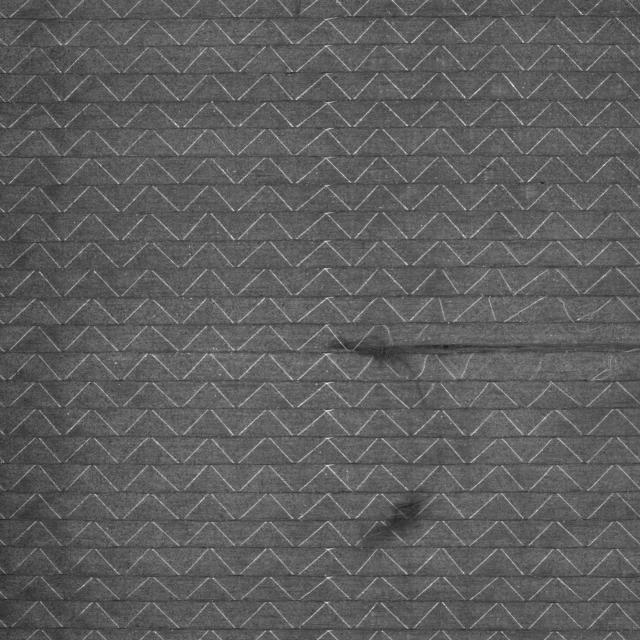carbon-fibre-defect: (325, 319, 633, 356), (357, 491, 432, 547)
